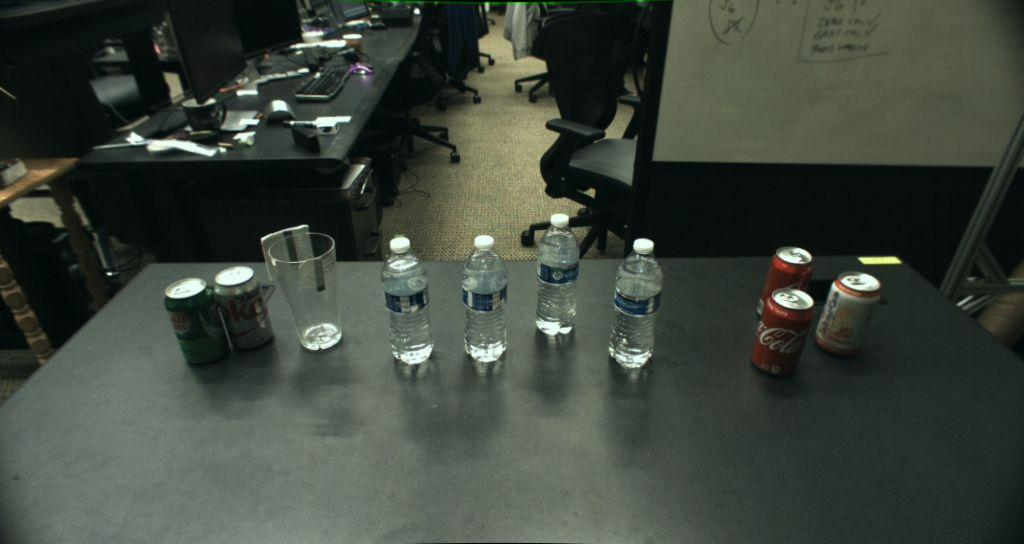can_coke: (752, 288, 813, 379)
can_diet_coke: (214, 265, 275, 352)
can_ginger_ale: (165, 278, 231, 366)
can_talking_rain_peach_nectarine: (814, 270, 880, 357)
water_bottle: (609, 238, 663, 368), (381, 237, 433, 365), (461, 235, 508, 363), (535, 213, 580, 335)
